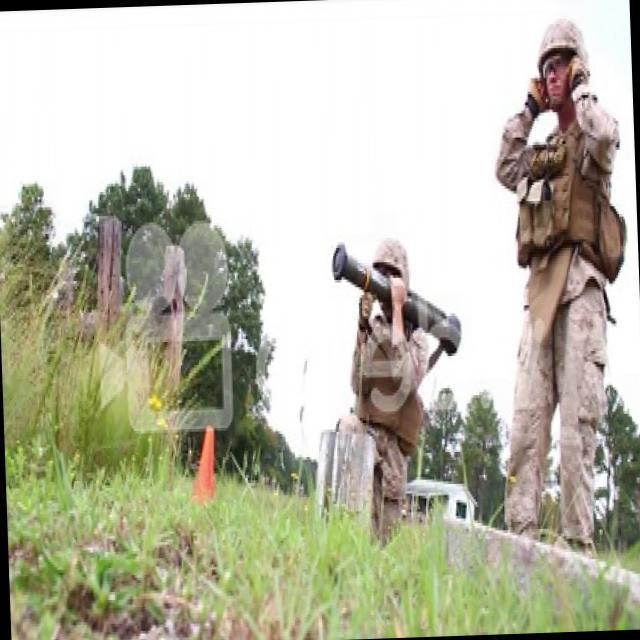rocket: (330, 234, 462, 366)
